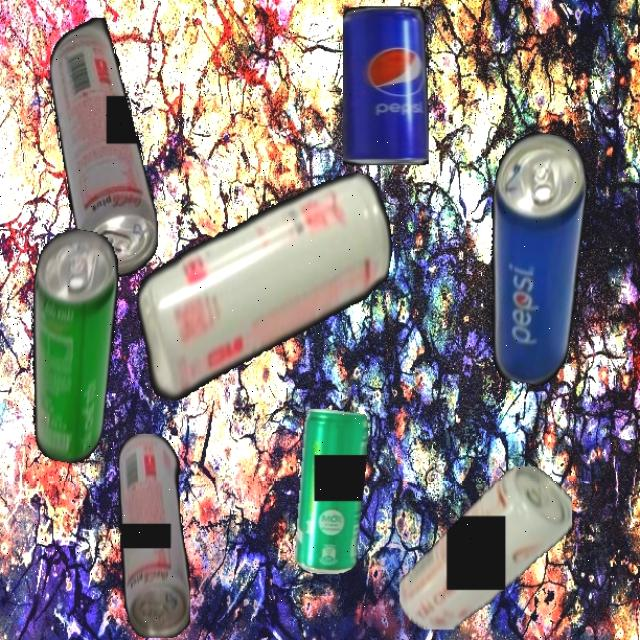debris: (122, 140, 404, 433), (462, 127, 604, 389), (4, 224, 136, 467), (398, 466, 572, 630), (49, 17, 158, 277), (118, 433, 190, 638), (342, 6, 429, 166), (294, 408, 369, 574)
